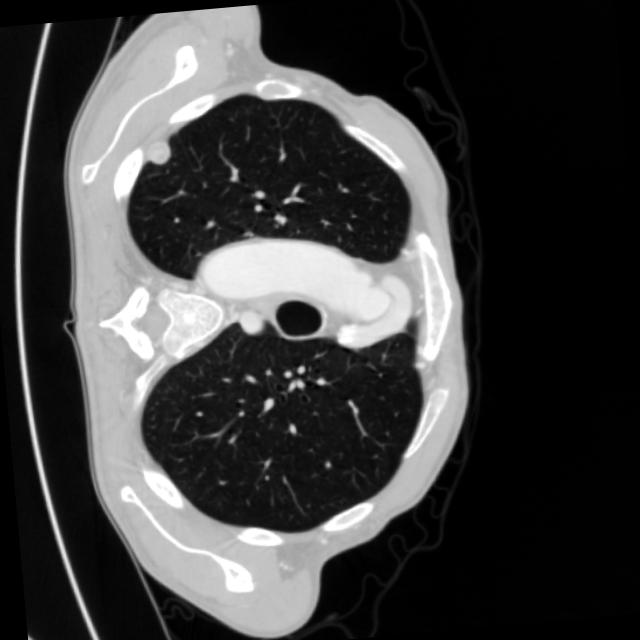nodule: (133, 128, 187, 182)
